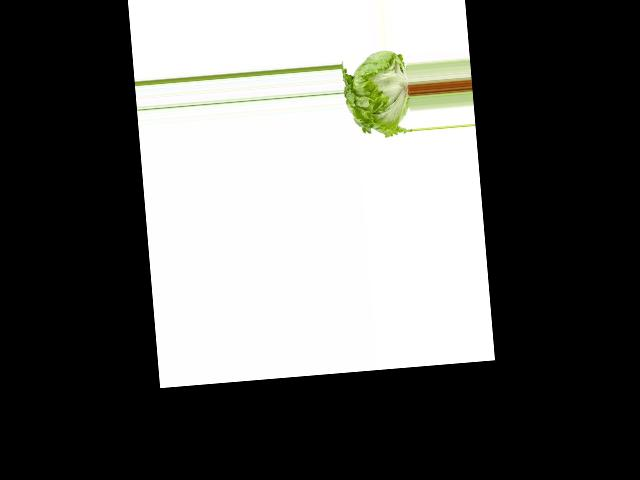lettuce: (341, 46, 413, 143)
